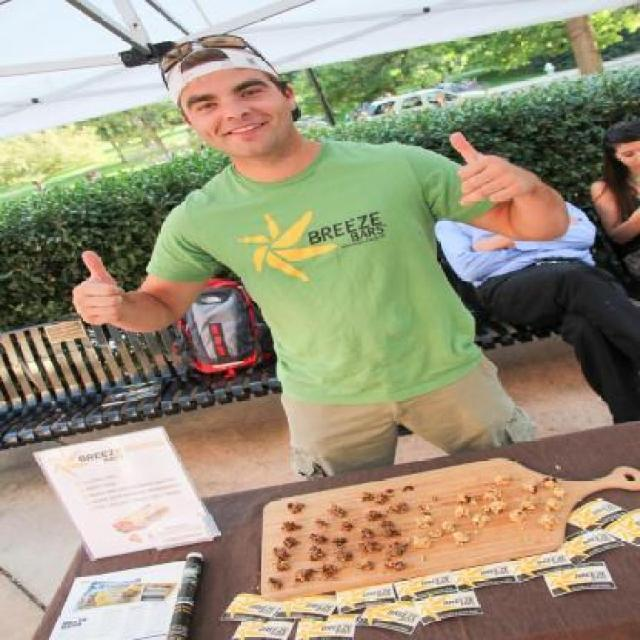backpack: (168, 278, 269, 380)
